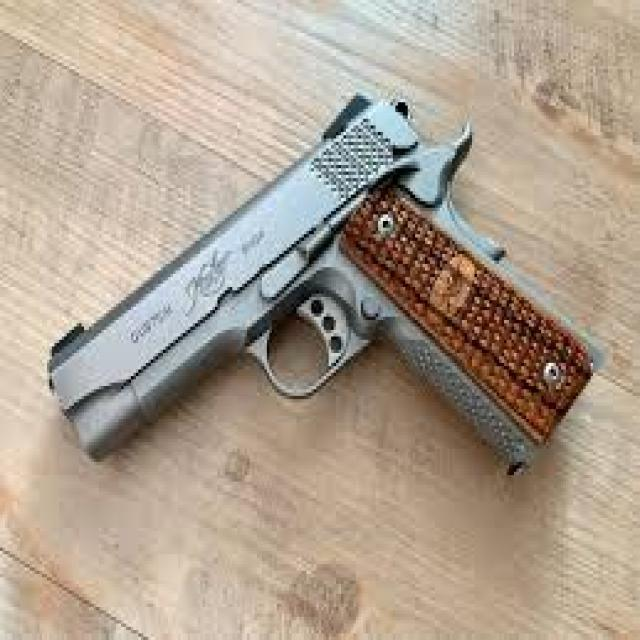semi automatic: (36, 68, 615, 540)
